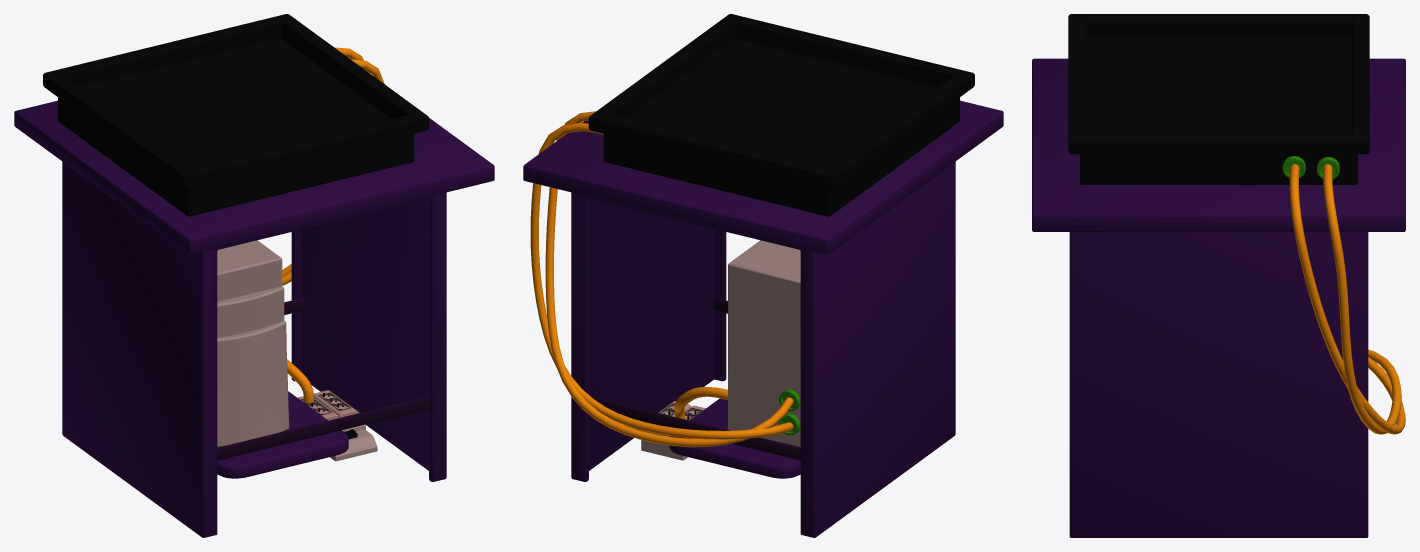
The model's file is SM_Recepteur.fbx.
3 renders of one model, left to right at view 1: azimuth 30°, elevation 25°; view 2: azimuth 150°, elevation 25°; view 3: azimuth 270°, elevation 25°, orthographic. The views are drawn at different scales.
Parts seen in each view (by area): view 1: SM_Recepteur; view 2: SM_Recepteur; view 3: SM_Recepteur.
Boxes of the visible parts, left/top/right/bottom form: SM_Recepteur: left=14, top=14, right=494, bottom=537; SM_Recepteur: left=523, top=14, right=1003, bottom=537; SM_Recepteur: left=1032, top=14, right=1405, bottom=537.
Bounding box in the file's own units: 107 × 115 × 100.
